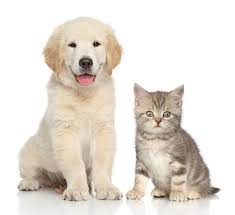cat: (127, 83, 224, 204)
dog: (16, 15, 125, 204)
